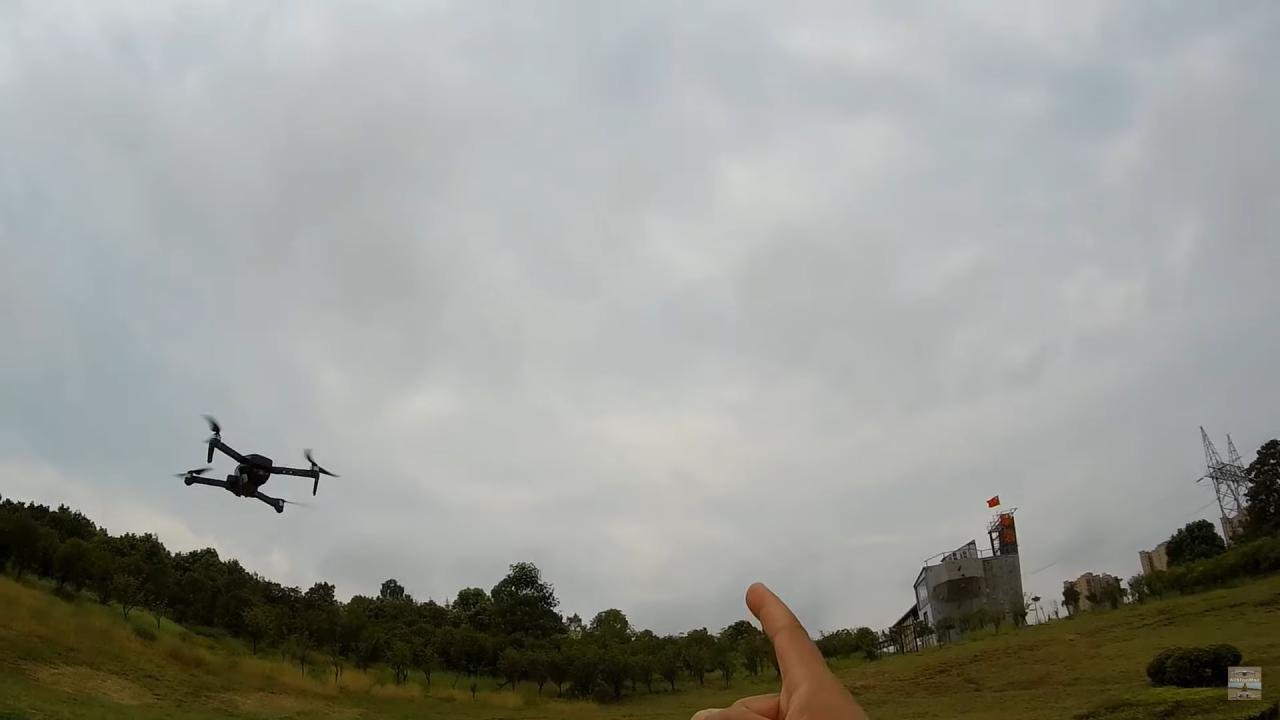Drone: (160, 404, 348, 525)
